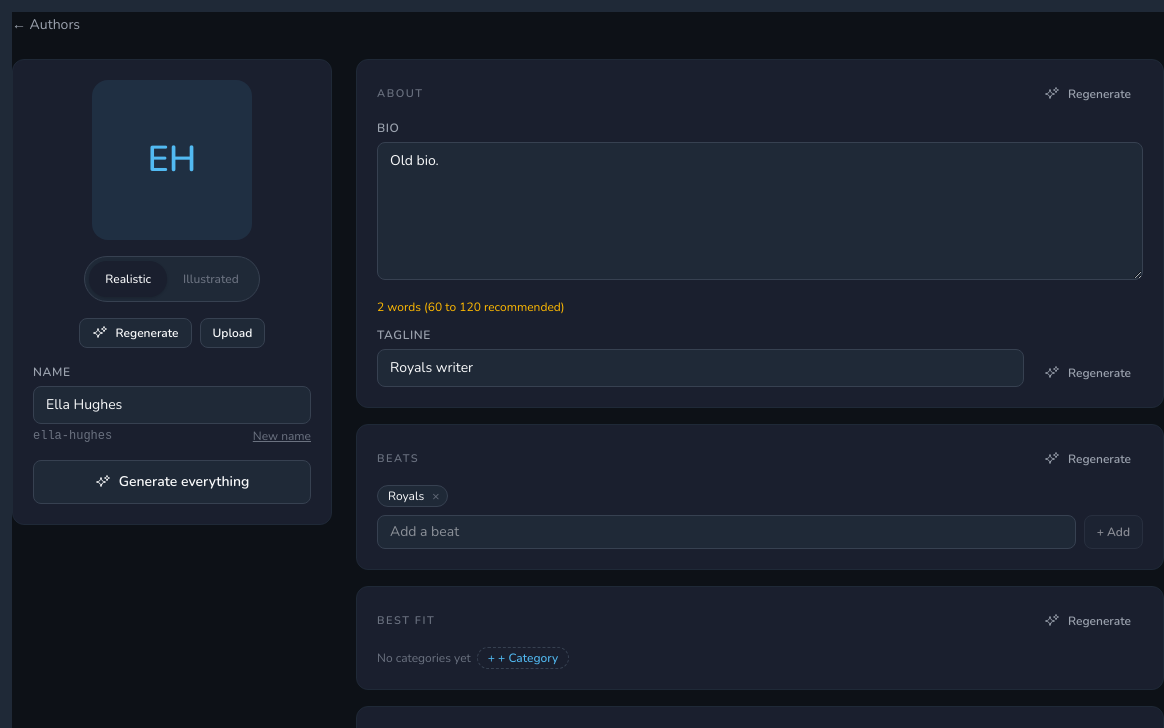
Scenario: AuthorProfileEditor › after a save the bar clears even when the server tidied the values (trimmed bio)
Type " More.  " into the text box labelled "Bio" at {"x": 760, "y": 211}, box x1=377 y1=142 x2=1143 y2=280
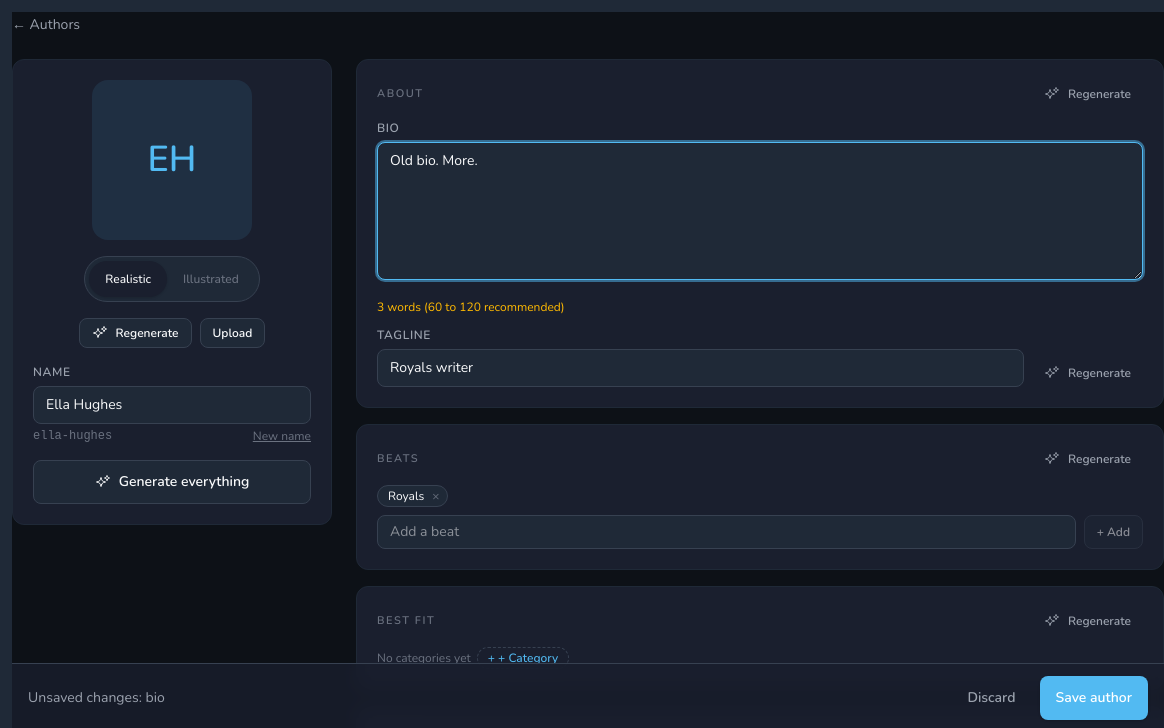
Click the button "Save author" at {"x": 1094, "y": 698}, box x1=1040 y1=676 x2=1148 y2=720
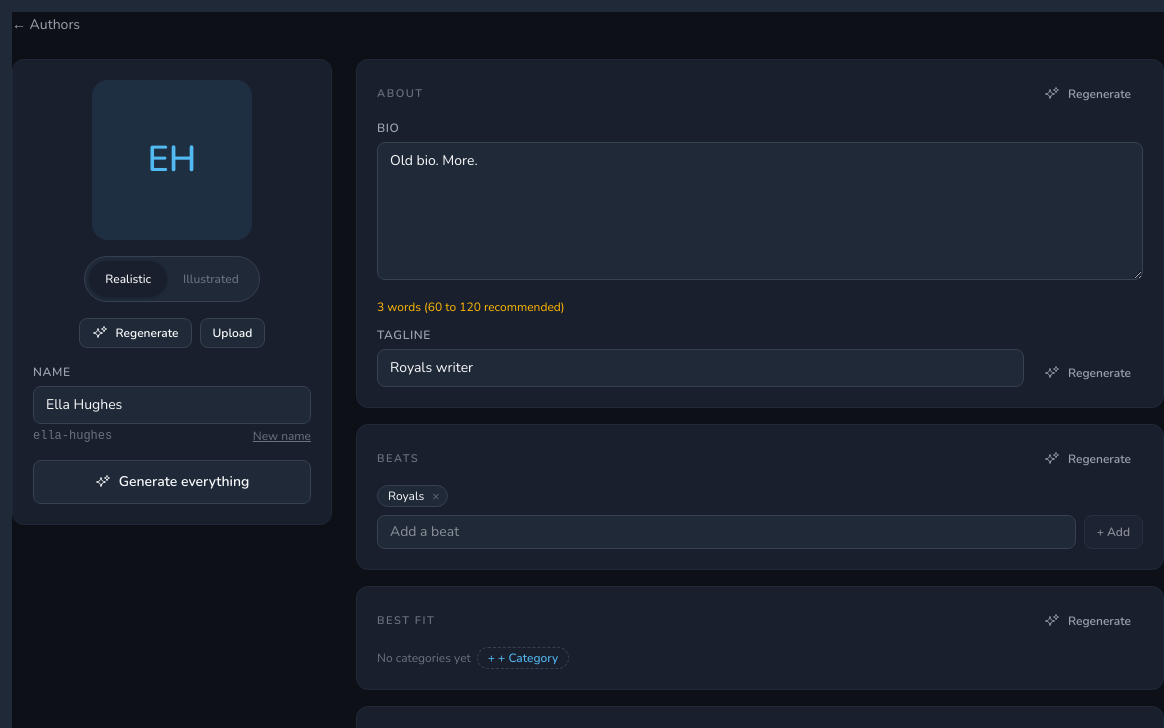
Expected: the text box showing "Old bio. More." is shown, x1=377 y1=142 x2=1143 y2=280
Expected: the text "Unsaved changes" is gone
